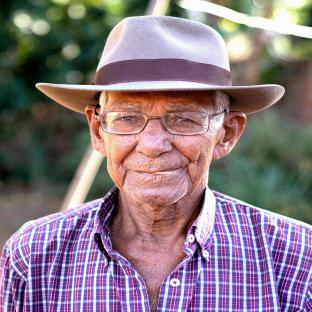Human: (0, 16, 312, 312)
